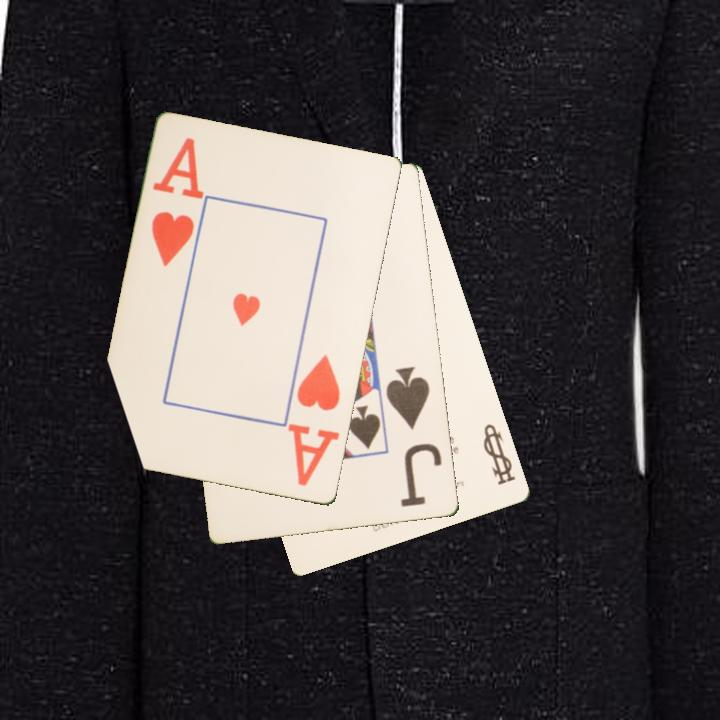Ah: (286, 351, 344, 490), (148, 134, 204, 270)
JK: (480, 420, 519, 489)
Js: (382, 363, 446, 510)
